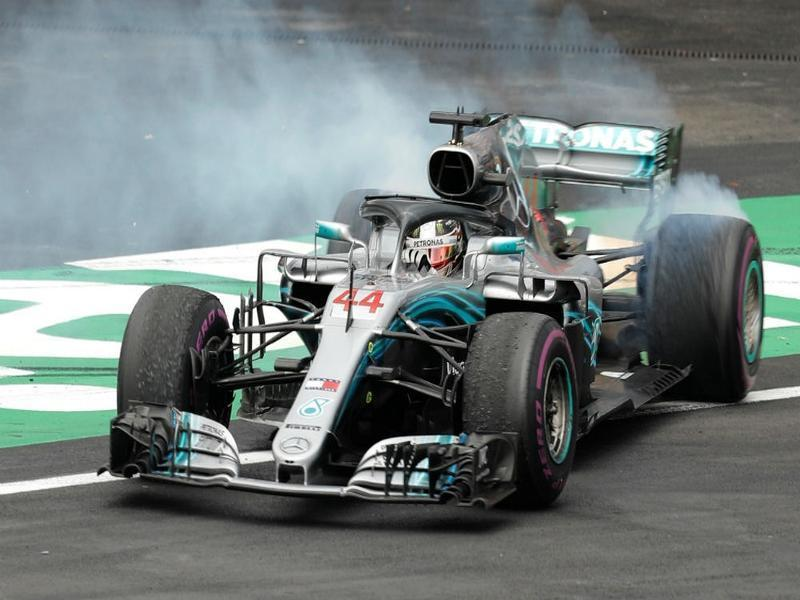f1: (85, 90, 799, 527)
